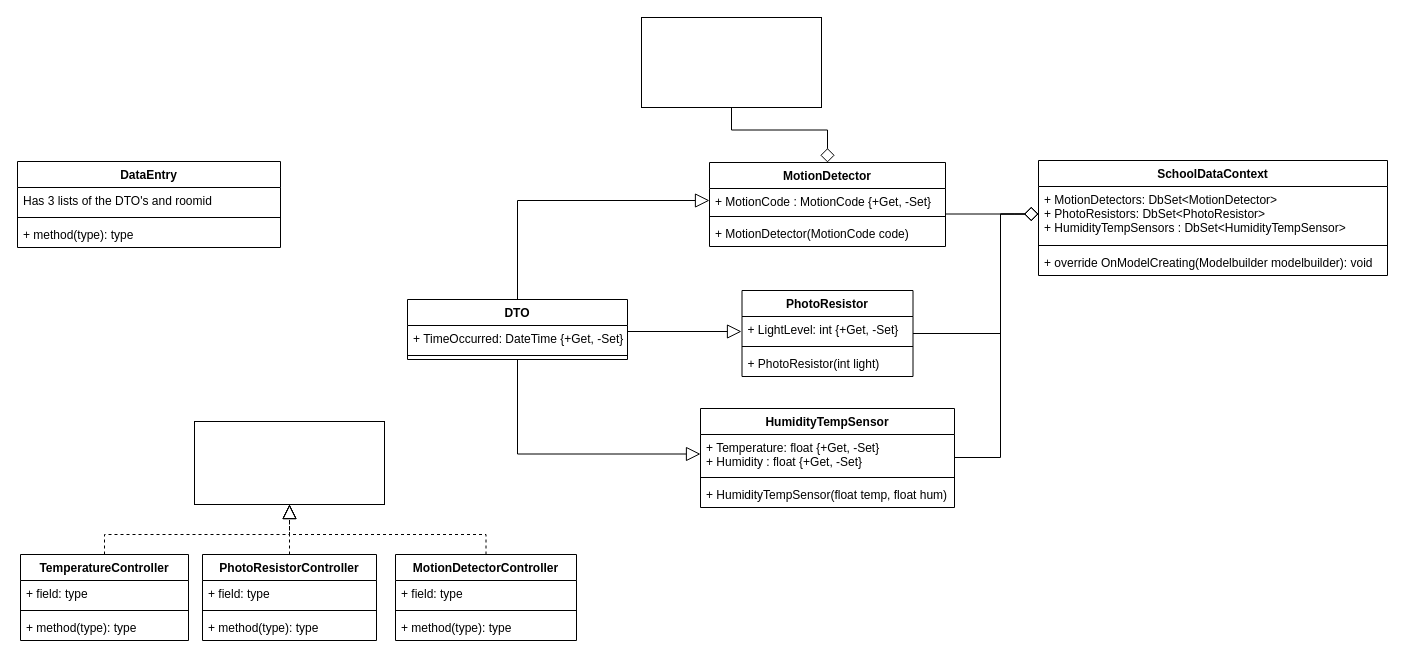
Image size: 1405x661. Some labels were removed from this diagram. Here are the shapes that lost their labels. From the top down, the centre of each, then its label:
At point (731, 62): "«Enum» MotionCode MotionEnded = 0 MotionDetected = 1".
At point (289, 462): "<<Interface>> IFetchData + method1(Type): Type + method2(Type, Type): Type".
